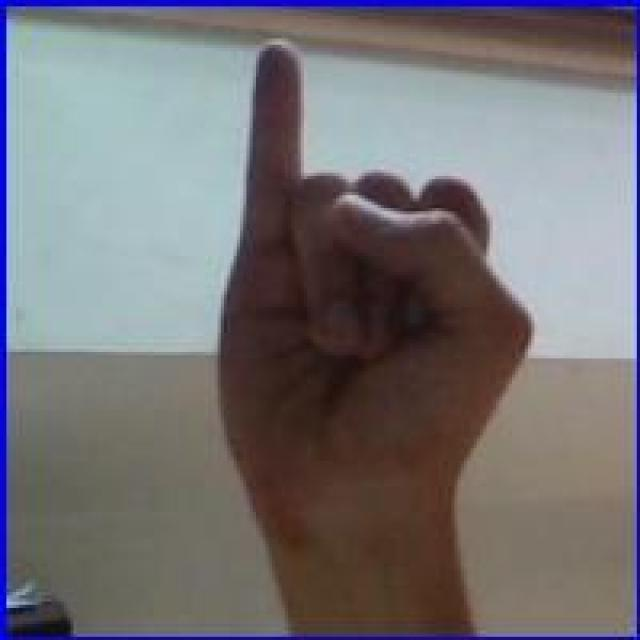I: (213, 36, 539, 550)
